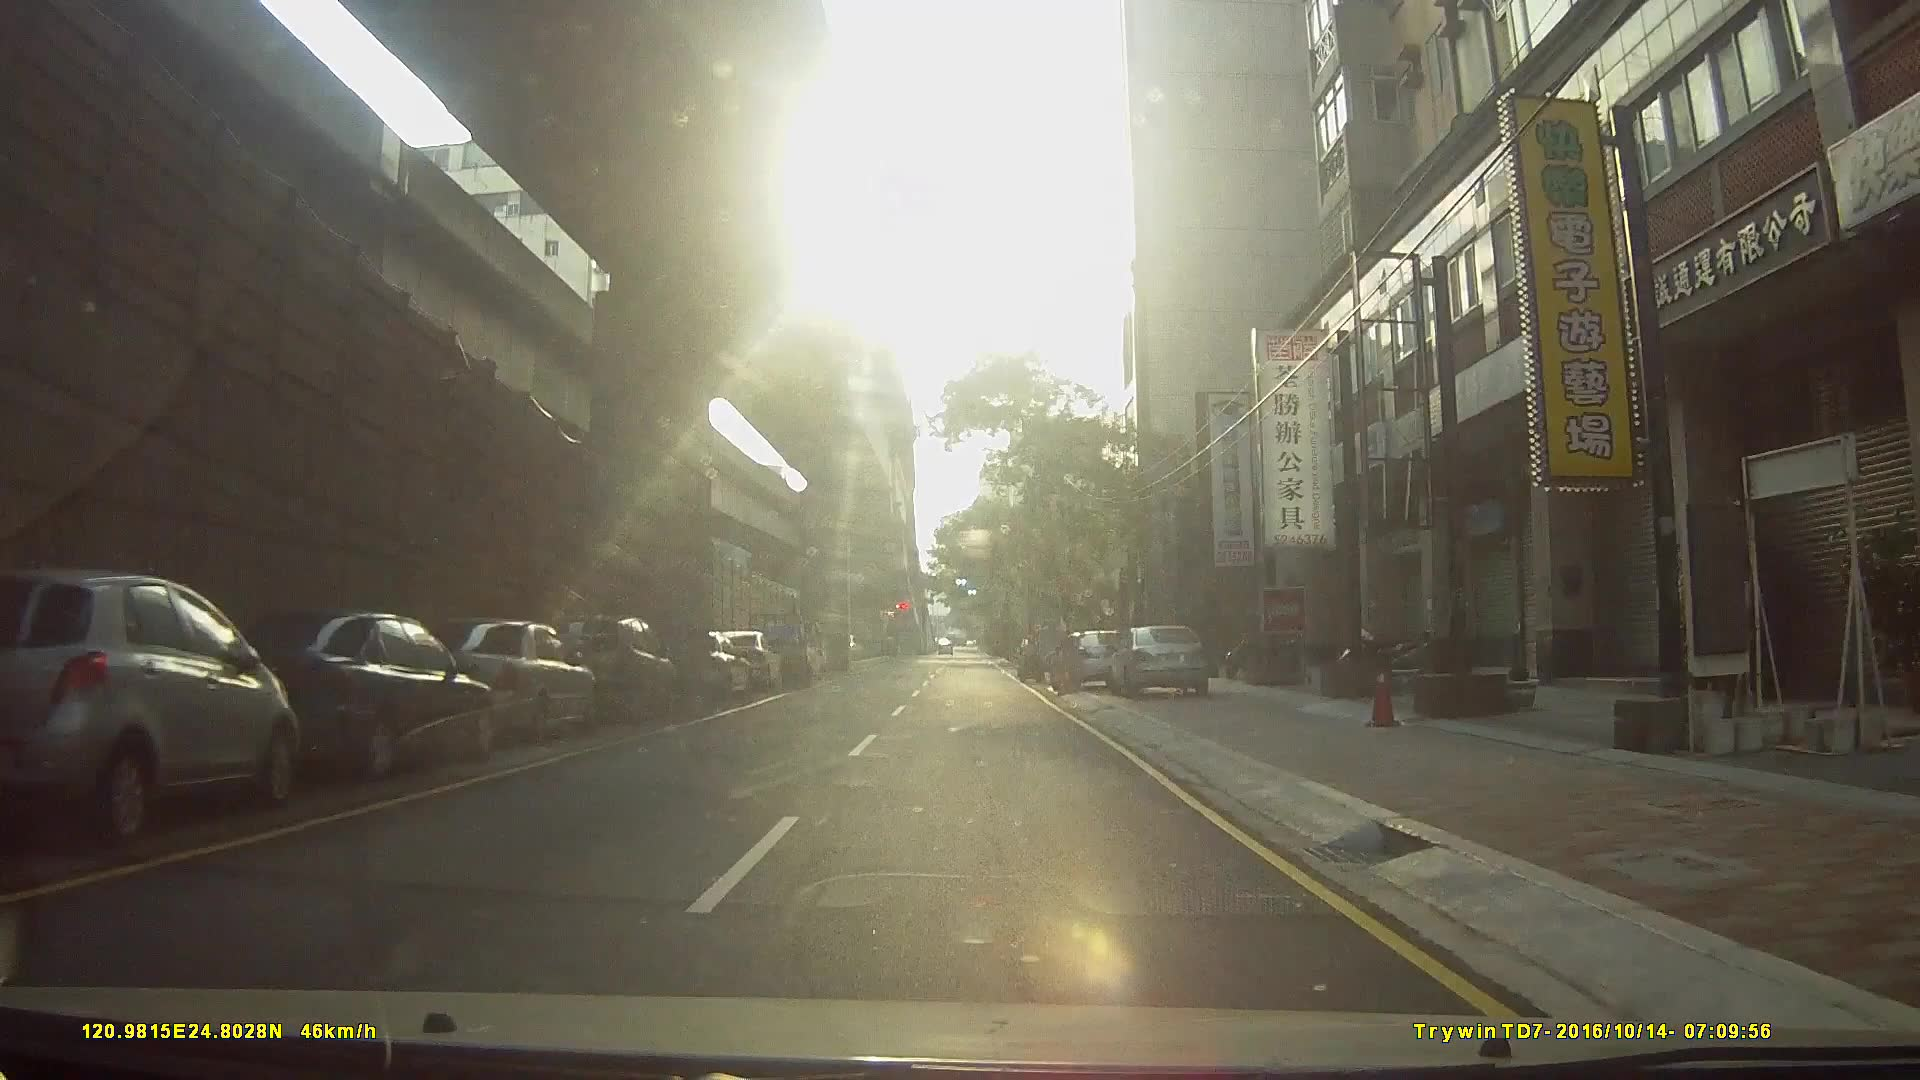rider: (1013, 622, 1044, 679)
vehicle: (1, 559, 315, 837), (206, 606, 483, 786), (420, 616, 591, 744), (540, 610, 676, 725), (1104, 620, 1211, 696), (1046, 628, 1130, 693), (706, 626, 782, 694), (744, 604, 805, 681)
